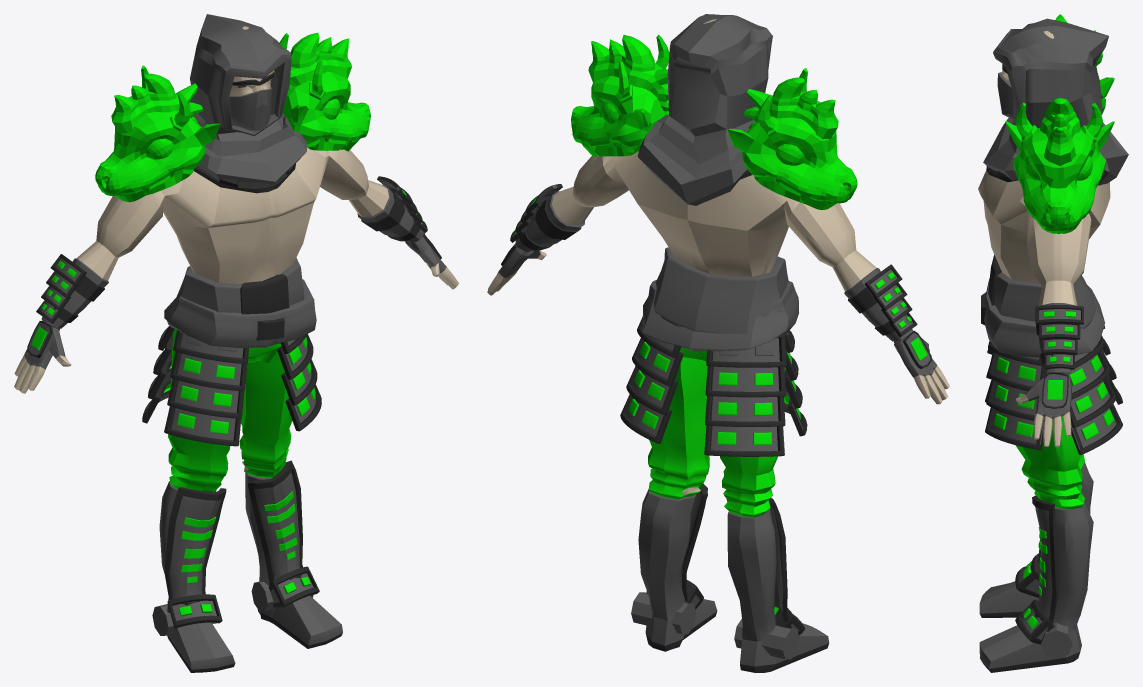
The model's file is BossMan.fbx.
The picture shows the model from 3 angles, left to right: view 1: azimuth 30°, elevation 25°; view 2: azimuth 150°, elevation 25°; view 3: azimuth 270°, elevation 25°; orthographic projection. The views are drawn at different scales.
Visible parts, largest first — view 1: Sett; view 2: Sett; view 3: Sett.
Part boxes in pixels (<box>): Sett: <box>14,14,458,672</box>; Sett: <box>487,14,949,672</box>; Sett: <box>978,14,1128,672</box>.
Bounding box in the file's own units: 11.1 × 14.76 × 3.31.
